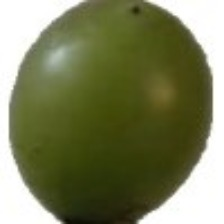grapes: (20, 31, 175, 209)
